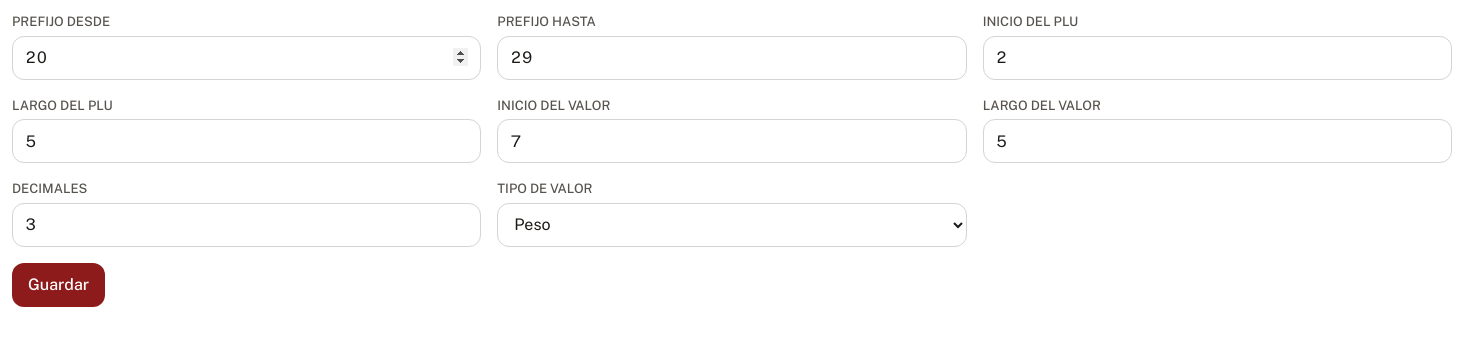
FormularioConfigEtiqueta › muestra el error de rango superpuesto si el backend lo rechaza
Click the button "Guardar" at (59, 284), box [12,262,105,306]
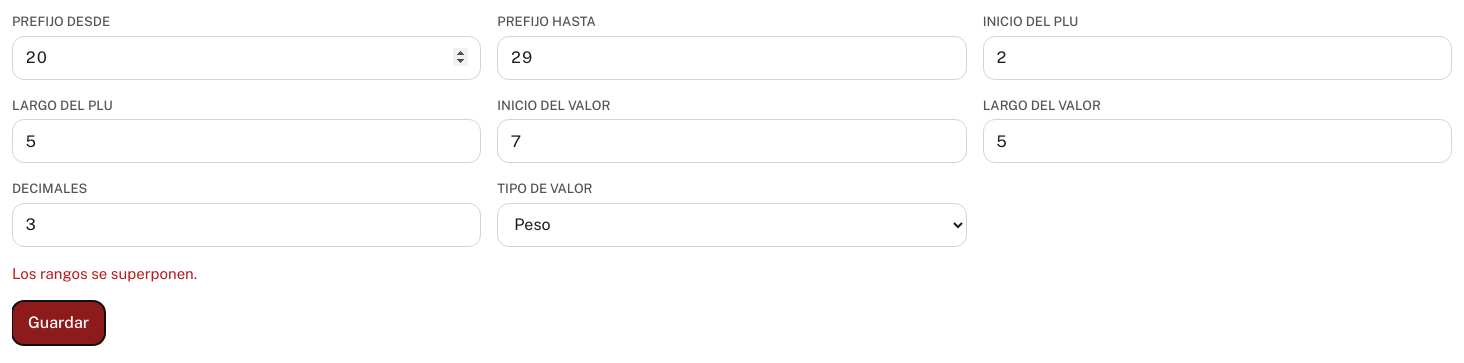
Check: the text "Los rangos se superponen." is shown, box [12,264,197,282]
